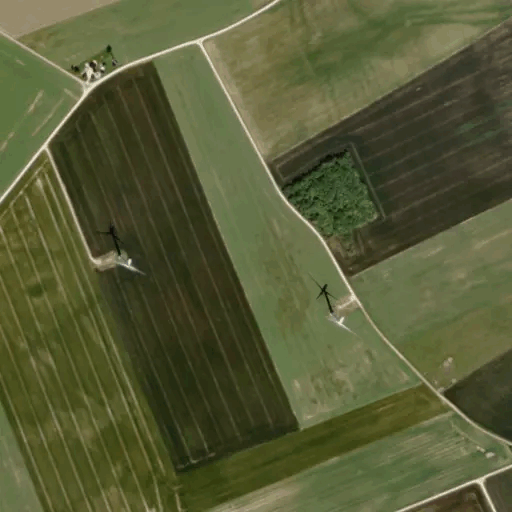wt: (303, 263, 361, 341), (88, 216, 147, 284)
